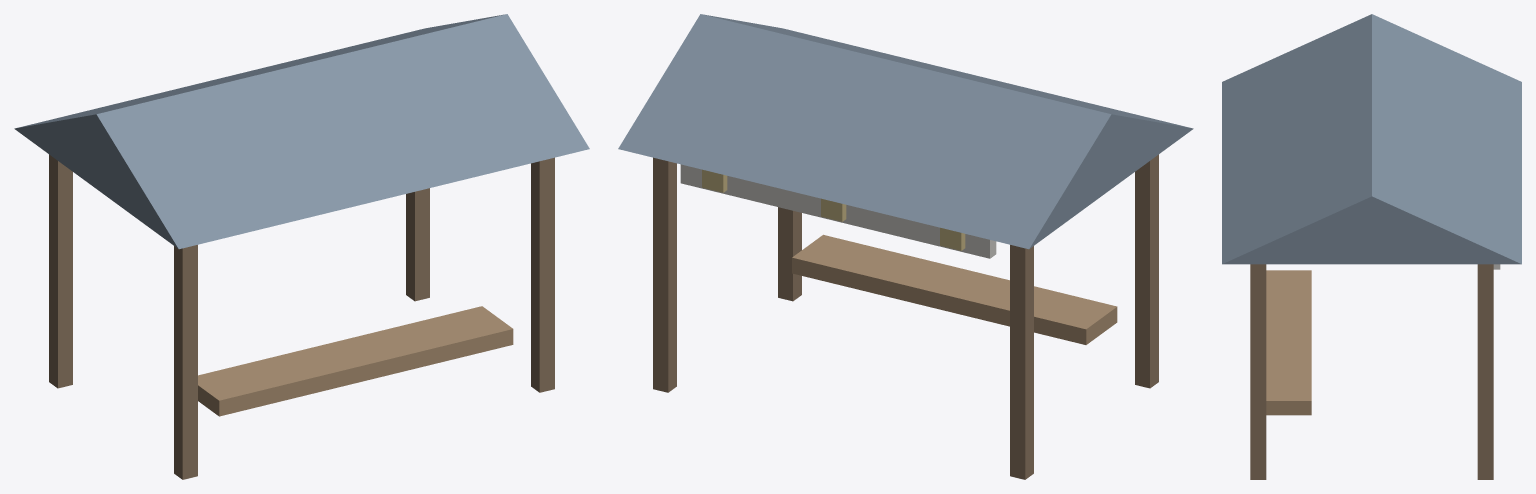
3 renders of one model, left to right at view 1: azimuth 30°, elevation 25°; view 2: azimuth 150°, elevation 25°; view 3: azimuth 270°, elevation 25°, orthographic. The views are drawn at different scales.
Visible parts, largest first — view 1: structure.beach_shelter; view 2: structure.beach_shelter; view 3: structure.beach_shelter.
Part boxes in pixels (box(x1,y1,x2,y2)): structure.beach_shelter: box(14, 14, 589, 479); structure.beach_shelter: box(618, 14, 1193, 479); structure.beach_shelter: box(1222, 14, 1521, 479).
Size of the model in its own units: 3.8 by 2.84 by 2.64.
